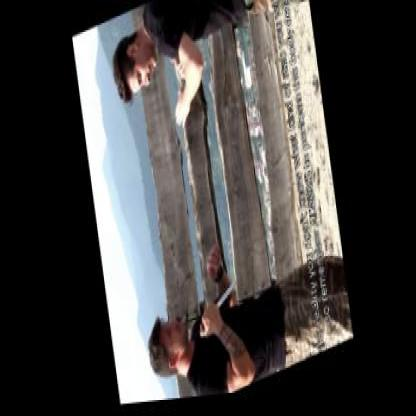knife: (192, 278, 242, 342)
